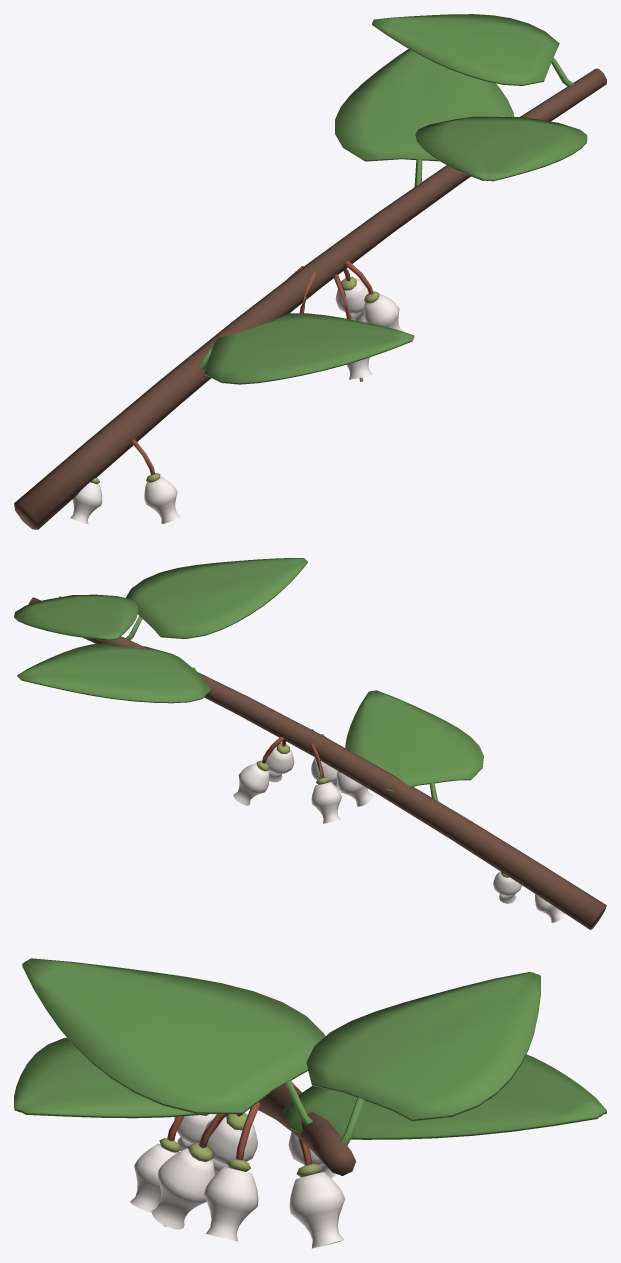
Rendered from flower-vaccinium-low.glb.
The picture shows the model from 3 angles, top to bottom: view 1: azimuth 30°, elevation 25°; view 2: azimuth 150°, elevation 25°; view 3: azimuth 270°, elevation 25°; orthographic projection. The views are drawn at different scales.
Visible parts, largest first — view 1: leaves, twig, cluster_flowers; view 2: leaves, twig, cluster_flowers; view 3: leaves, cluster_flowers, hero_bell, twig, hero_parts.
Boxes of the visible parts, x1,y1,x2,y2 form: leaves: (199,14,587,384); twig: (14,68,606,529); cluster_flowers: (70,260,403,523); leaves: (14,558,483,800); twig: (28,597,606,929); cluster_flowers: (233,734,565,922); leaves: (14,958,606,1145); cluster_flowers: (130,1081,345,1248); hero_bell: (151,1148,214,1229); twig: (250,1084,355,1175); hero_parts: (163,1114,228,1226).
Size of the model in its own units: 12.17 by 5.98 by 6.66.
